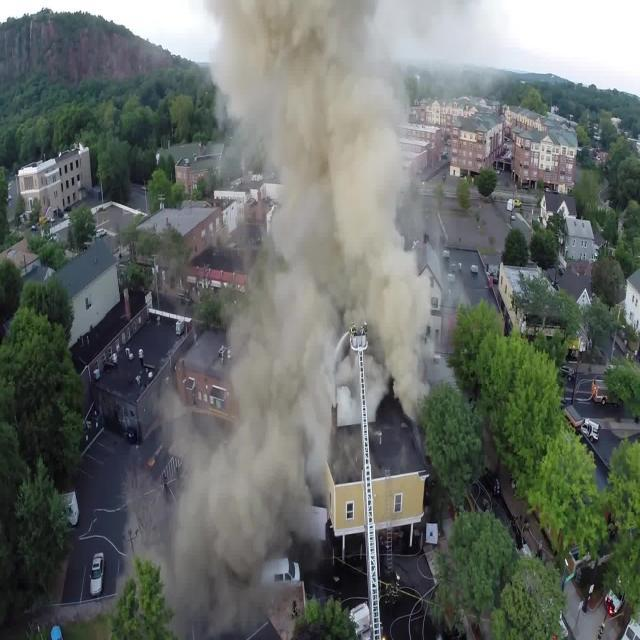Smoke: (214, 0, 450, 369), (138, 361, 329, 640)
